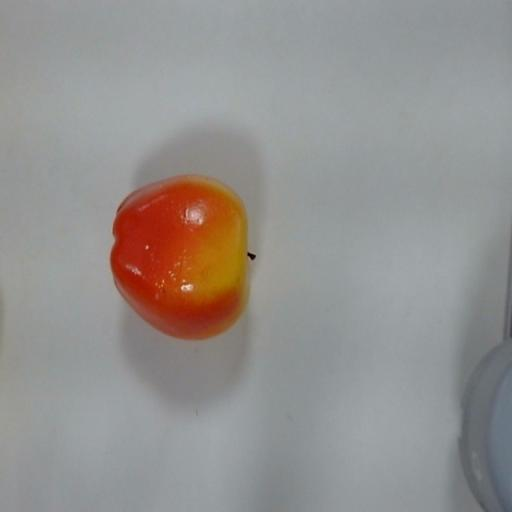Ripe: (106, 172, 260, 344)
